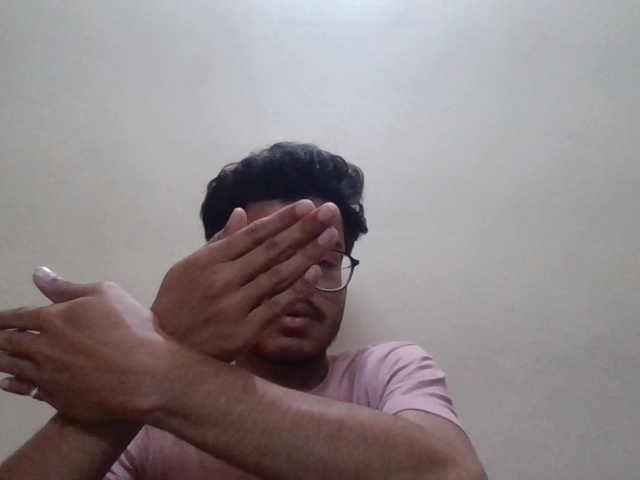feel: (1, 205, 350, 440)
